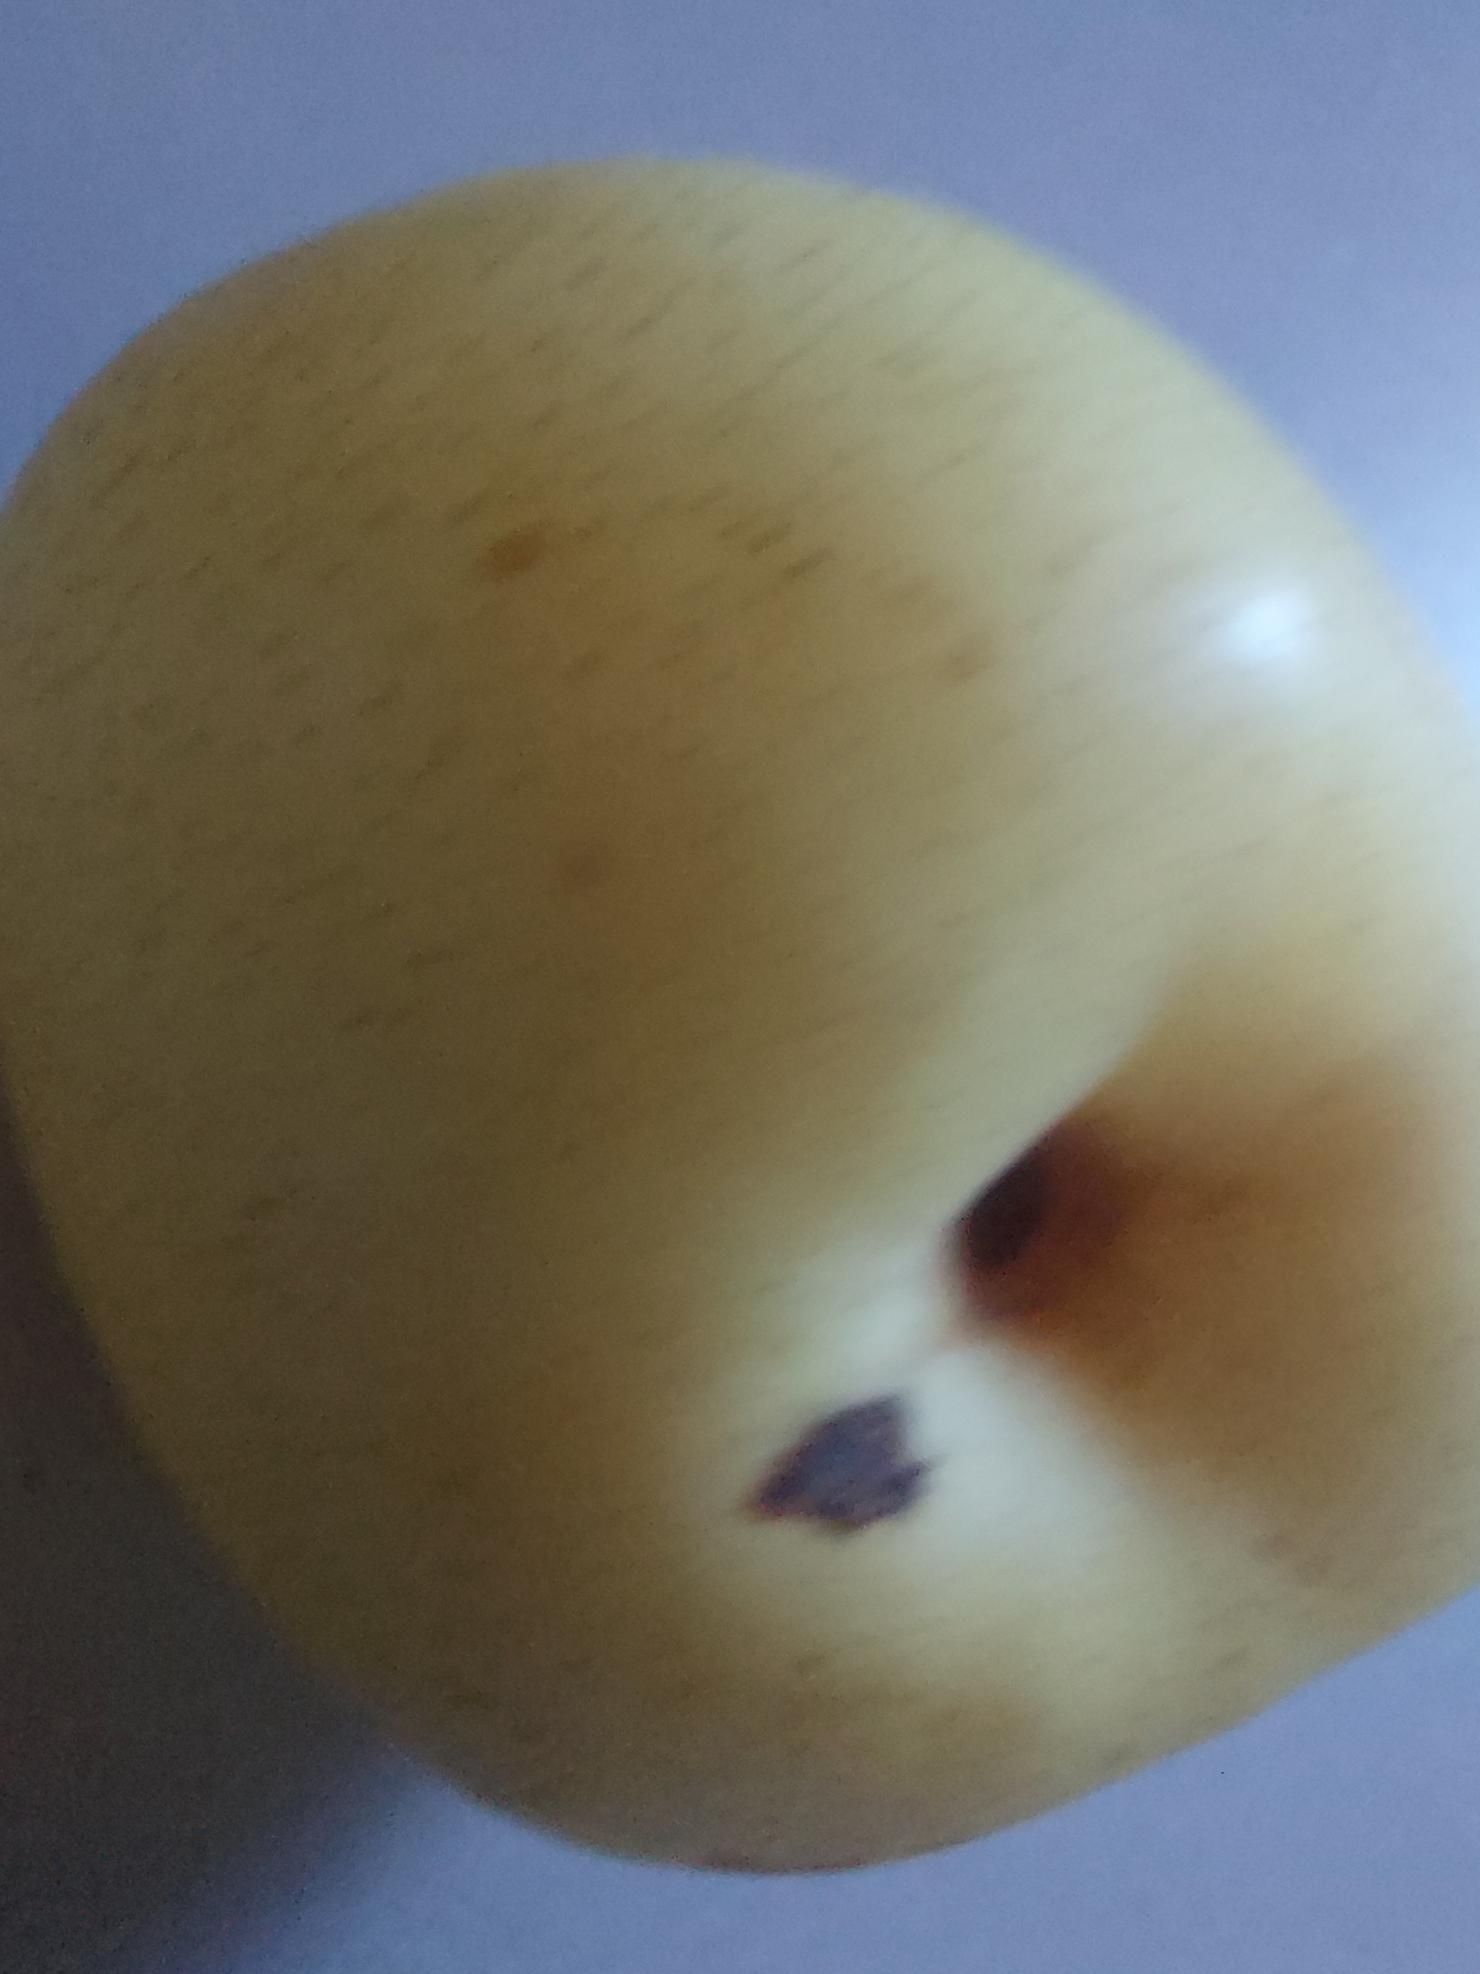Good Pear: (0, 96, 1480, 1934)
